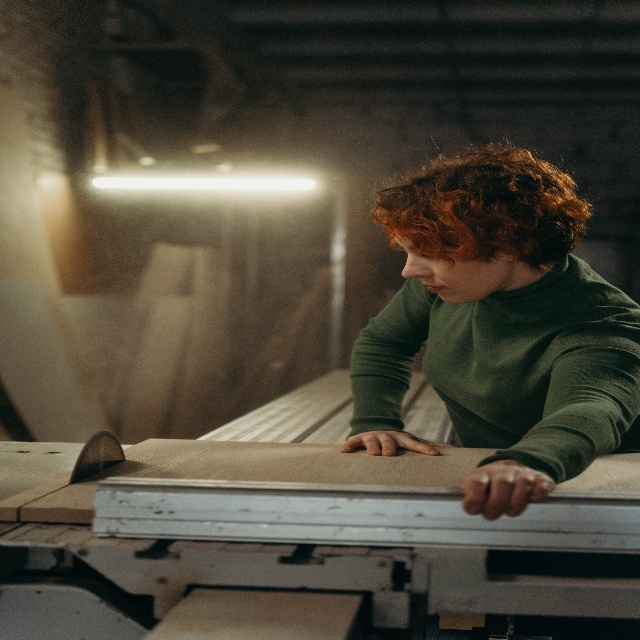Sin_guantes: (461, 459, 554, 521), (339, 430, 452, 458)
